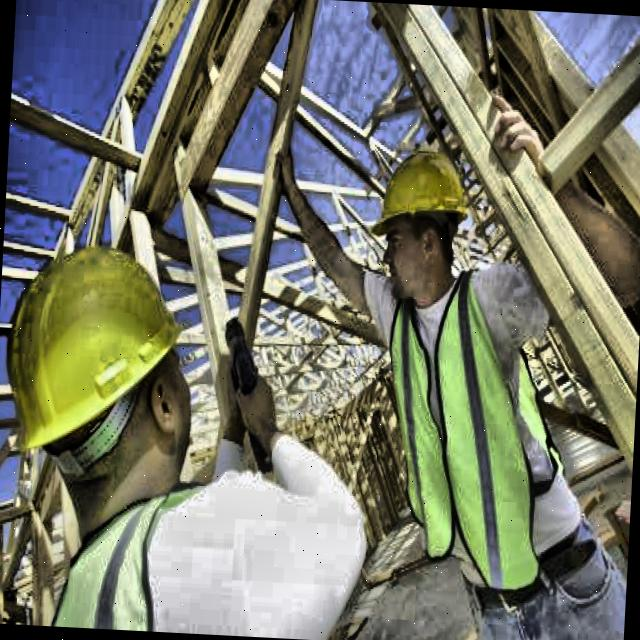helmet: (0, 205, 226, 551), (368, 124, 480, 306)
